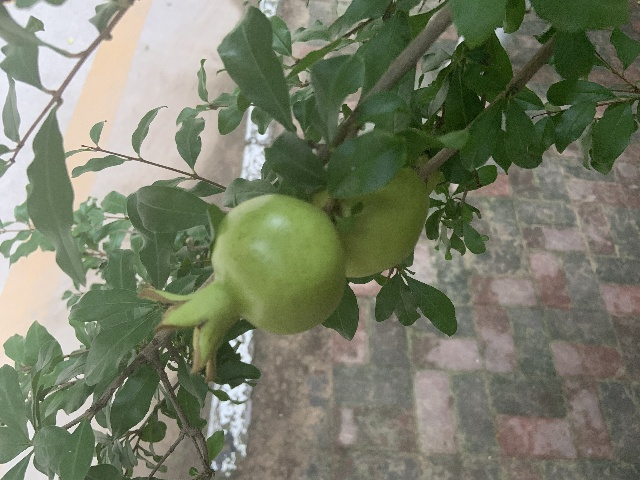mid-growth: (137, 194, 346, 385), (305, 166, 430, 277)
